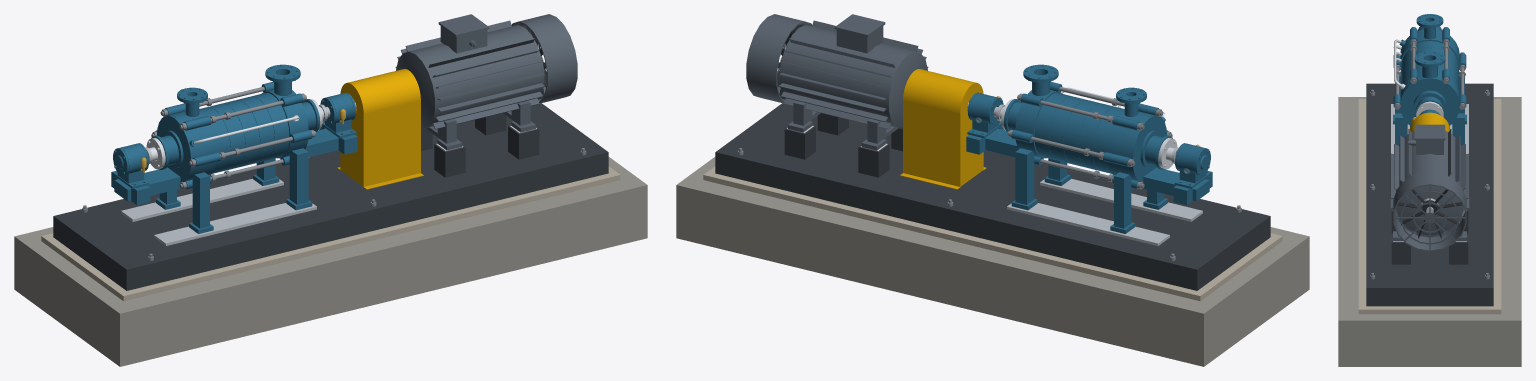
3 views of the same model, side by side, from view 1: azimuth 30°, elevation 25°; view 2: azimuth 150°, elevation 25°; view 3: azimuth 270°, elevation 25° (orthographic). The views are drawn at different scales.
Visible parts, largest first — view 1: foundation, baseplate, motor-frame, coupling-guard, grout, discharge-casing, suction-casing, pump-mounting-rails, motor-fan-cover, motor-mounting-pads, motor-terminal-box, motor-feet (+13 smaller); view 2: foundation, baseplate, motor-frame, coupling-guard, grout, discharge-casing, suction-casing, pump-mounting-rails, motor-fan-cover, motor-mounting-pads, motor-terminal-box, motor-feet (+13 smaller); view 3: foundation, baseplate, grout, motor-frame, motor-fan-cover, suction-casing, motor-mounting-pads, discharge-casing, motor-terminal-box, motor-fan, suction-nozzle, discharge-nozzle (+13 smaller).
Boxes of the visible parts, x1,y1,x2,y2 form: foundation: (14, 157, 647, 366); baseplate: (53, 103, 608, 290); motor-frame: (395, 20, 544, 129); coupling-guard: (337, 69, 423, 189); grout: (41, 166, 620, 301); discharge-casing: (111, 103, 220, 233); suction-casing: (253, 82, 357, 210); pump-mounting-rails: (121, 178, 316, 245); motor-fan-cover: (511, 14, 577, 103); motor-mounting-pads: (421, 113, 539, 177); motor-terminal-box: (438, 14, 489, 53); motor-feet: (426, 100, 535, 150); foundation: (676, 157, 1309, 366); baseplate: (715, 103, 1270, 290); motor-frame: (779, 20, 928, 129); coupling-guard: (900, 69, 986, 189); grout: (703, 166, 1282, 301); discharge-casing: (1103, 103, 1212, 233); suction-casing: (966, 82, 1070, 210); pump-mounting-rails: (1007, 178, 1202, 245); motor-fan-cover: (746, 14, 812, 103); motor-mounting-pads: (784, 113, 902, 177); motor-terminal-box: (834, 14, 885, 53); motor-feet: (788, 100, 897, 150); foundation: (1338, 97, 1521, 366); baseplate: (1366, 83, 1493, 306); grout: (1358, 99, 1501, 314); motor-frame: (1390, 129, 1469, 235); motor-fan-cover: (1393, 171, 1466, 251); suction-casing: (1393, 68, 1466, 145); motor-mounting-pads: (1391, 208, 1468, 264); discharge-casing: (1393, 27, 1466, 124); motor-terminal-box: (1408, 124, 1445, 154); motor-fan: (1397, 189, 1462, 238); suction-nozzle: (1414, 51, 1445, 78); discharge-nozzle: (1416, 14, 1443, 38).
Size of the model in its own units: 4.15 by 1.55 by 1.44.
